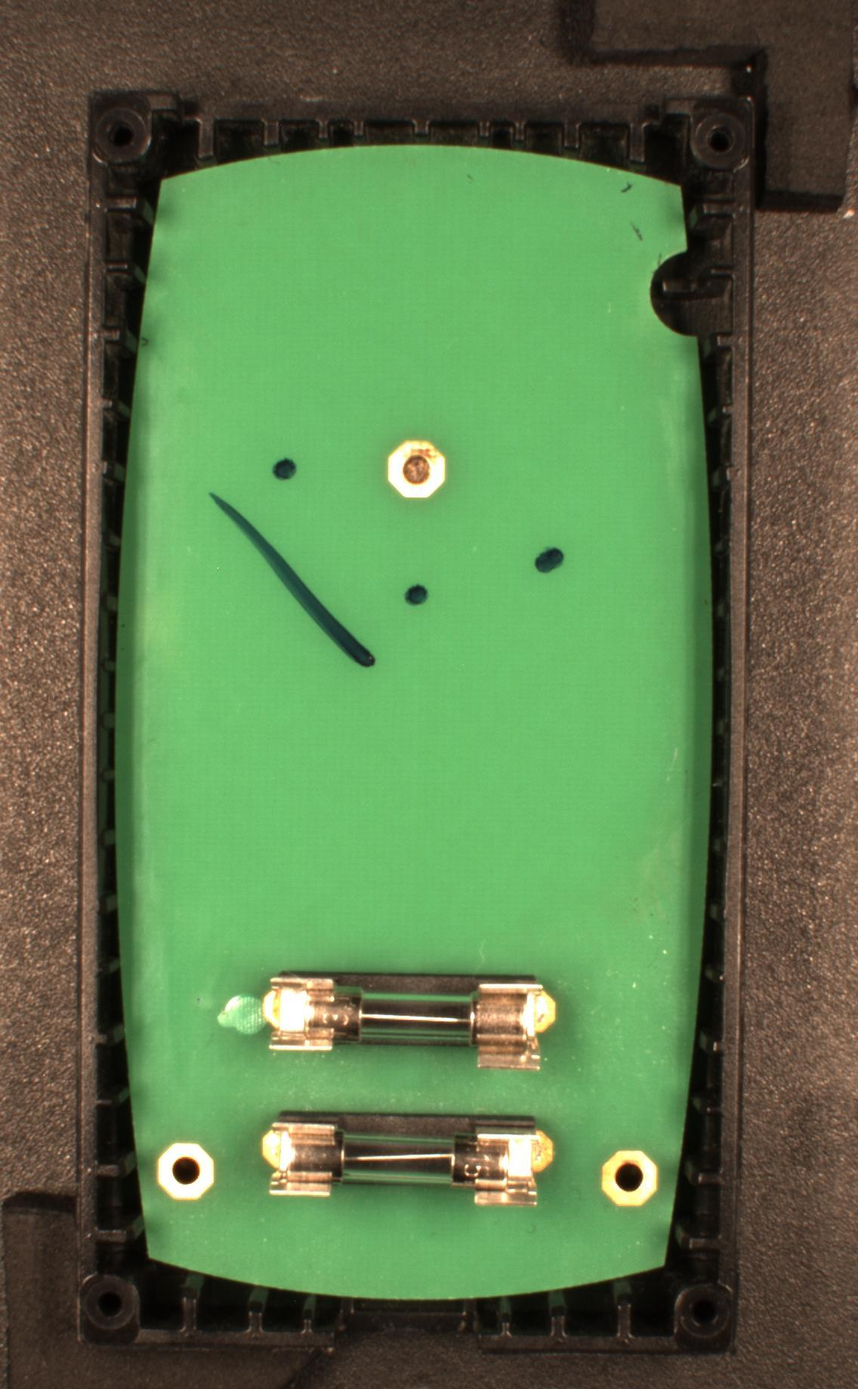Linijsko Ostecene: (208, 491, 377, 671)
Tockasto Ostecenje: (534, 546, 566, 575), (271, 456, 298, 481), (404, 583, 430, 607)
